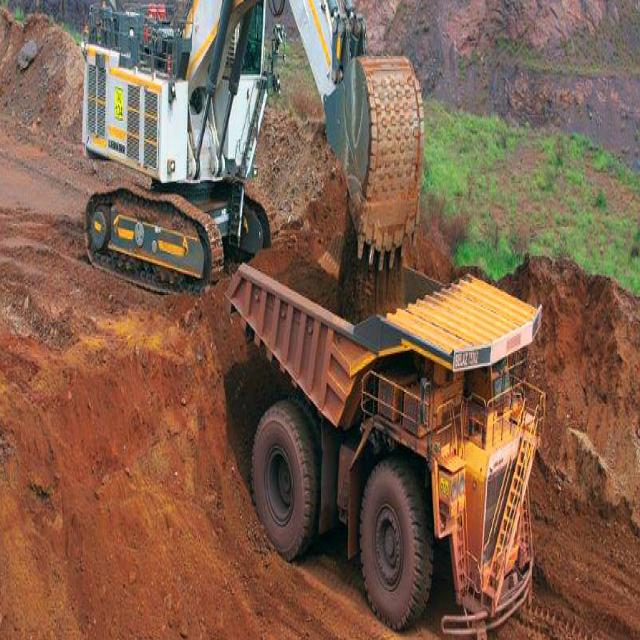dump_truck: (233, 242, 557, 639)
